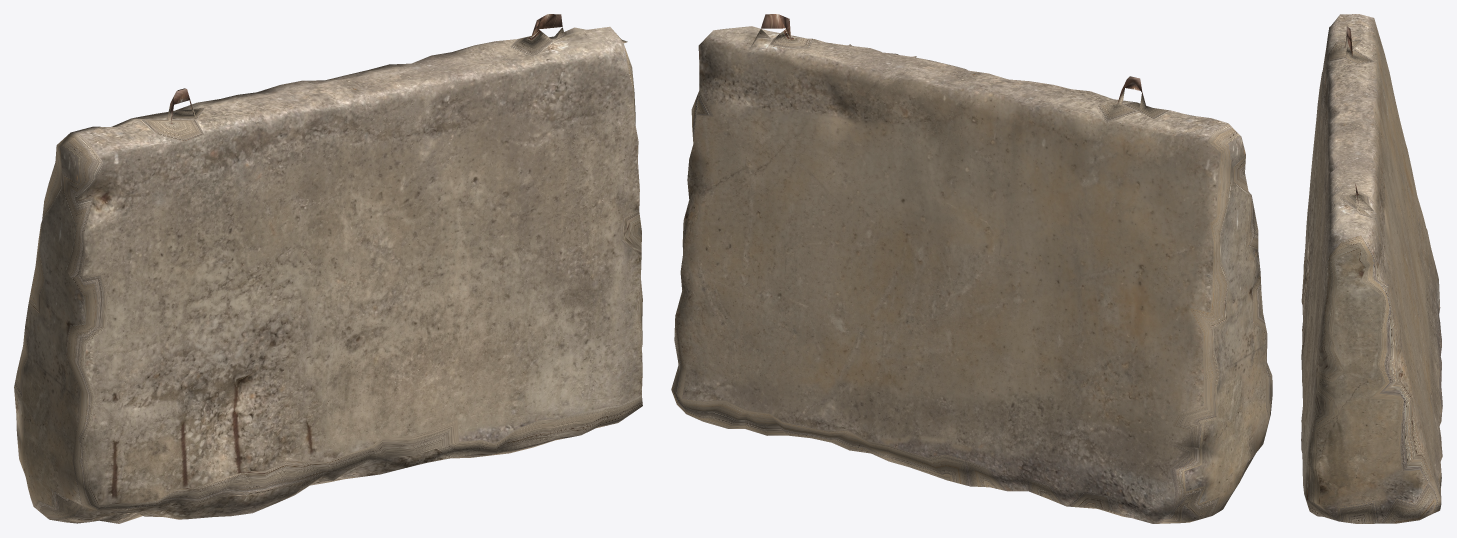
The model's file is barrier.lod1.glb.
3 views of the same model, side by side, from view 1: azimuth 30°, elevation 25°; view 2: azimuth 150°, elevation 25°; view 3: azimuth 270°, elevation 25° (orthographic). The views are drawn at different scales.
Visible parts, largest first — view 1: Concrete_Road_Barrier_02_LOD00.0; view 2: Concrete_Road_Barrier_02_LOD00.0; view 3: Concrete_Road_Barrier_02_LOD00.0.
Boxes of the visible parts, x1,y1,x2,y2 form: Concrete_Road_Barrier_02_LOD00.0: (14,14,642,523); Concrete_Road_Barrier_02_LOD00.0: (671,14,1272,523); Concrete_Road_Barrier_02_LOD00.0: (1301,14,1442,523).
Bounding box in the file's own units: 1.56 × 1.11 × 0.4279.
Materials: 1 (1 with a texture image).
